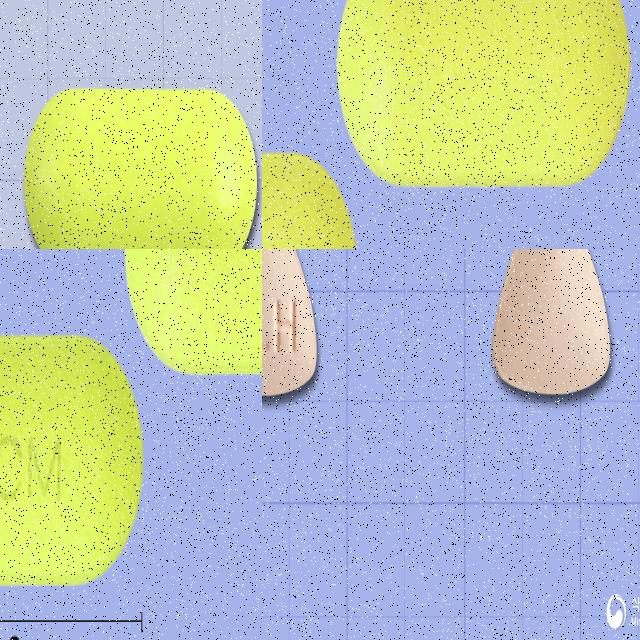Baracle: (489, 249, 616, 403), (262, 249, 323, 405)
Claricin: (21, 82, 261, 249)
Claritin: (0, 335, 144, 588), (124, 249, 262, 378)
Clycin: (337, 0, 631, 184)
